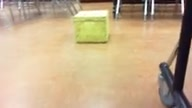cube: (72, 11, 108, 44)
